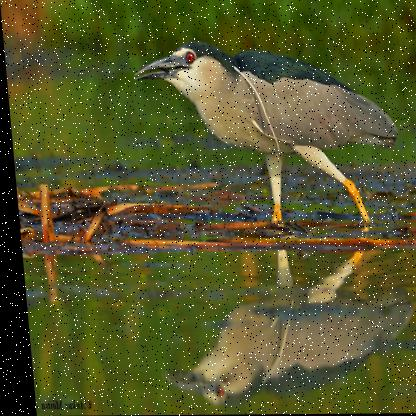Burung: (129, 42, 404, 228)
